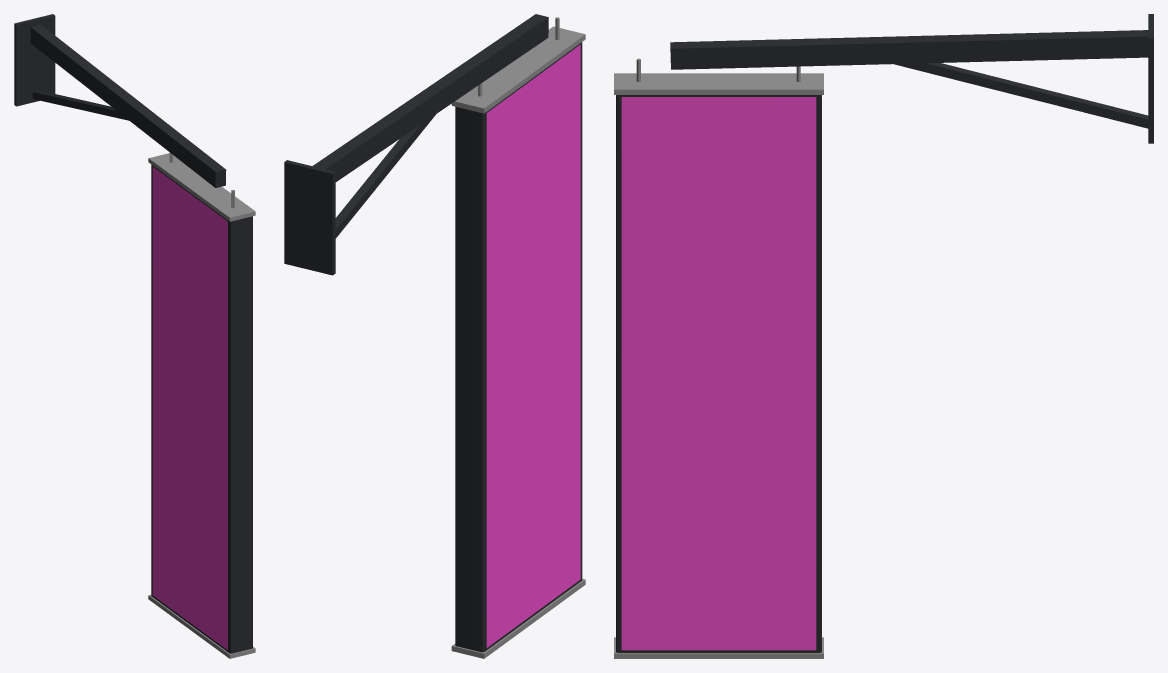
The model's file is St_HangingSign_F.fbx.
3 renders of one model, left to right at view 1: azimuth 30°, elevation 25°; view 2: azimuth 150°, elevation 25°; view 3: azimuth 270°, elevation 25°, orthographic. The views are drawn at different scales.
Parts seen in each view (by area): view 1: St_HangingSign_F_LOD0; view 2: St_HangingSign_F_LOD0; view 3: St_HangingSign_F_LOD0.
Boxes of the visible parts, <box> form: St_HangingSign_F_LOD0: <box>14,14,255,658</box>; St_HangingSign_F_LOD0: <box>284,14,585,658</box>; St_HangingSign_F_LOD0: <box>614,14,1153,658</box>.
Size of what is drawn, in the model's own units: 0.3 by 3.57 by 2.79.
